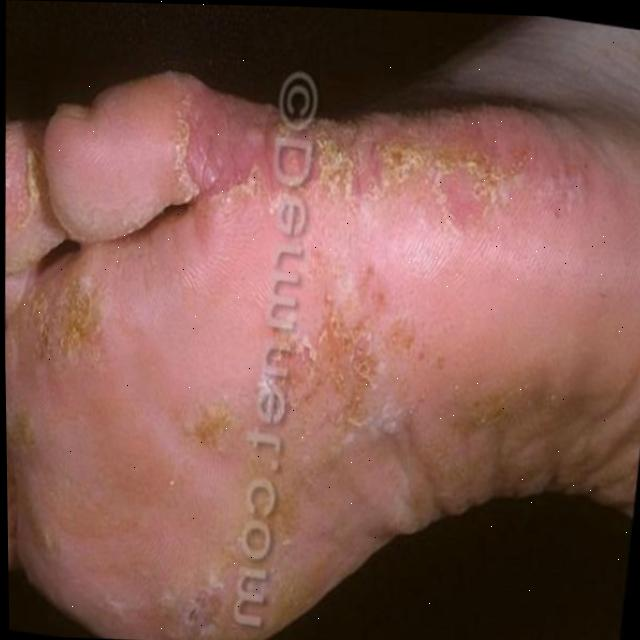Eczema: (2, 127, 478, 587)
